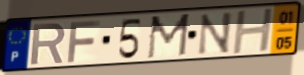5: (117, 17, 143, 60)
F: (65, 19, 102, 64)
H: (231, 6, 276, 57)
M: (145, 12, 192, 61)
N: (196, 10, 234, 57)
R: (29, 21, 68, 66)
